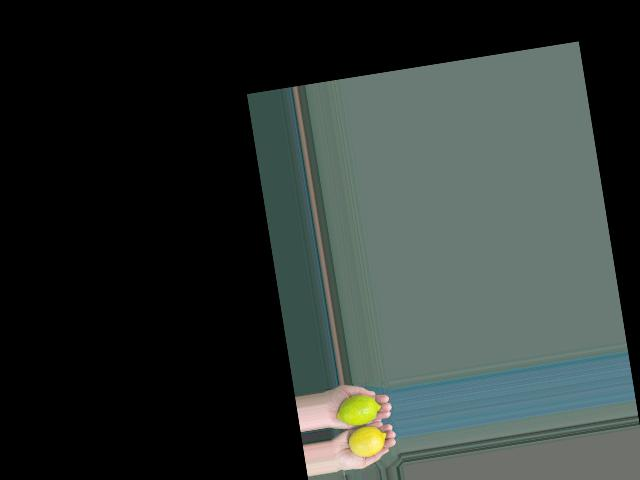lemon: (345, 423, 388, 459)
